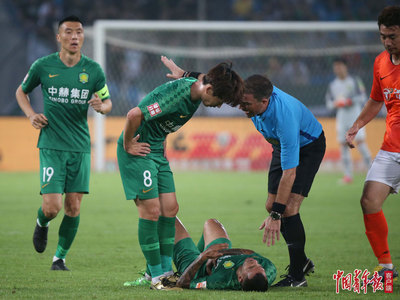fall: (158, 208, 284, 292)
